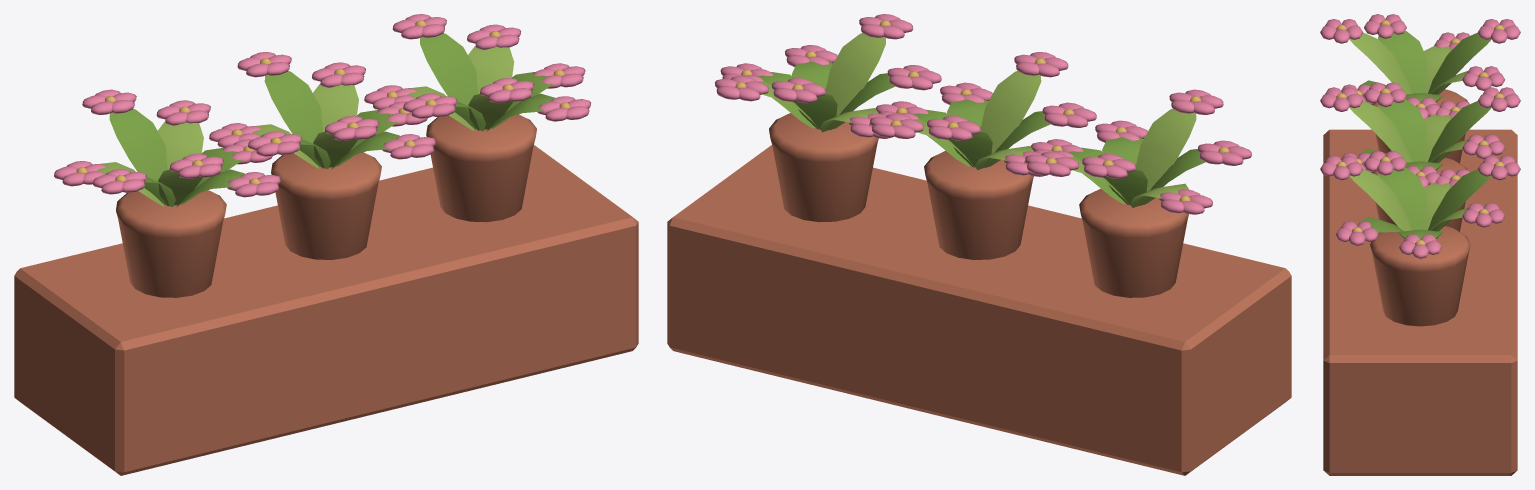
The model's file is flower-planter.glb.
3 views of the same model, side by side, from view 1: azimuth 30°, elevation 25°; view 2: azimuth 150°, elevation 25°; view 3: azimuth 270°, elevation 25° (orthographic). The views are drawn at different scales.
Parts seen in each view (by area): view 1: flower_planter; view 2: flower_planter; view 3: flower_planter.
Part boxes in pixels (<box>): flower_planter: <box>14,14,638,475</box>; flower_planter: <box>667,14,1291,475</box>; flower_planter: <box>1320,14,1520,475</box>.
Bounding box in the file's own units: 1.35 × 0.715 × 0.4968.
